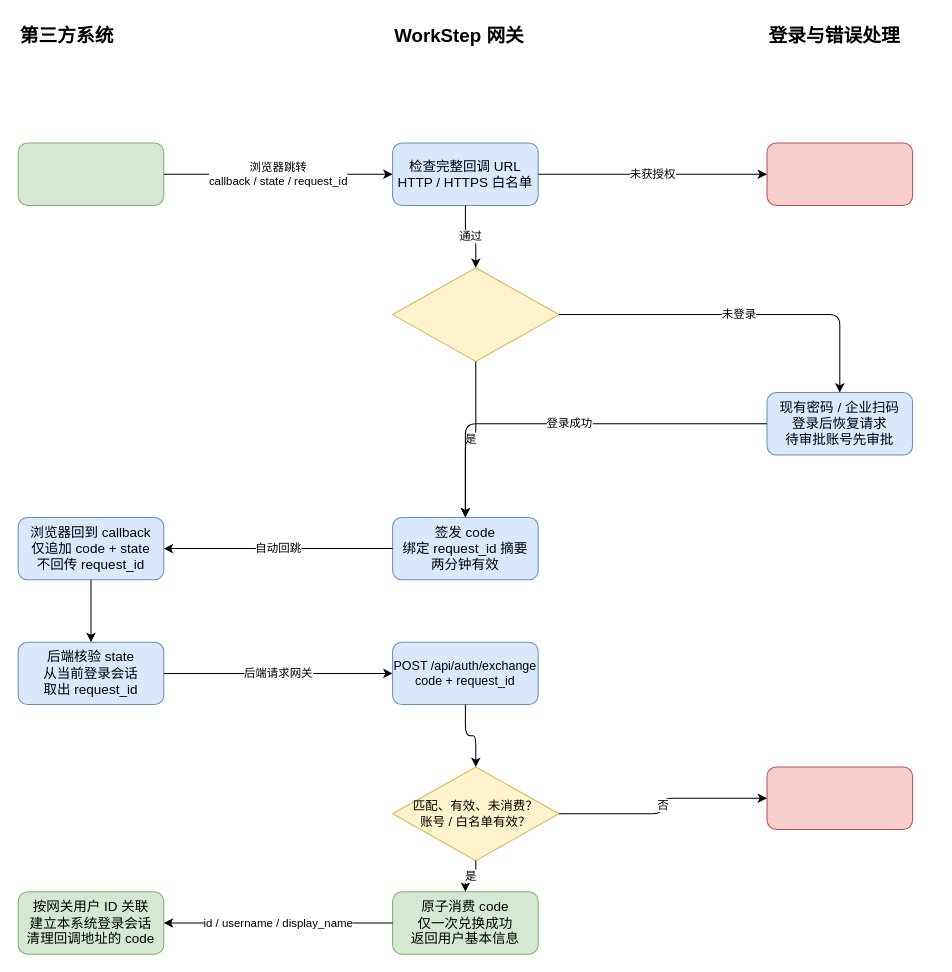
Some shapes in this 952 by 972 pixel diagram are drawn without their labels. The box of each missing label's shape, as (x1, y1, x2, y2) in pixels:
已登录且账号有效？: (392, 267, 559, 361)
用户点击登录 后端保存随机 state 与 request_id: (17, 142, 164, 205)
网关显示错误 不跳往未授权地址: (766, 142, 913, 205)
返回错误 第三方重新发起登录: (766, 766, 913, 829)
